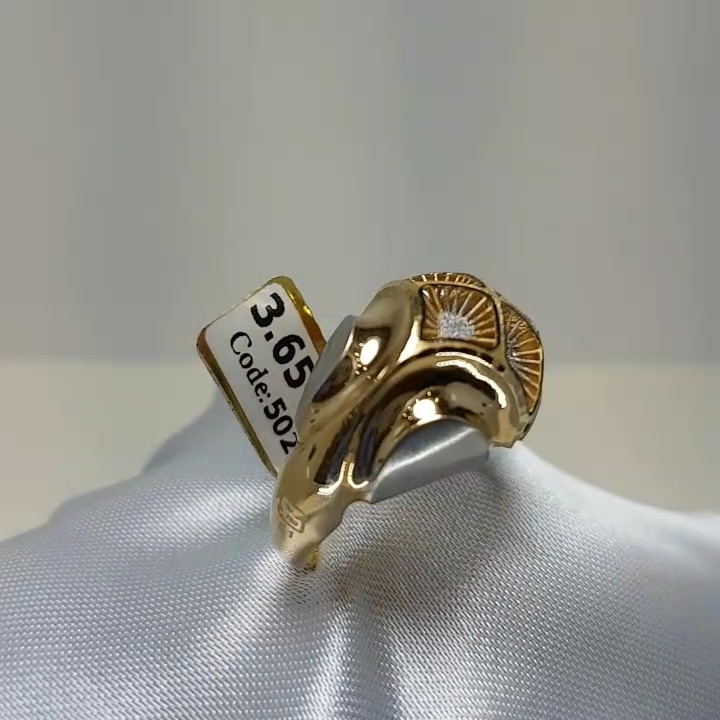Ring 2: (245, 229, 572, 592)
